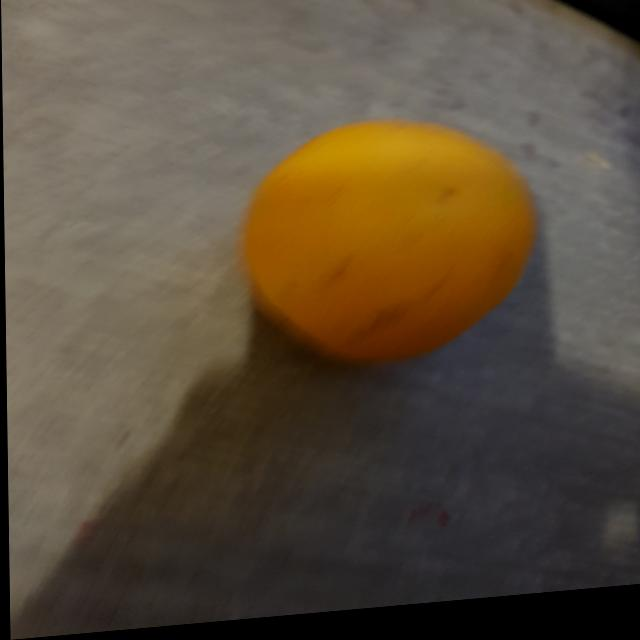Orange: (242, 127, 534, 368)
